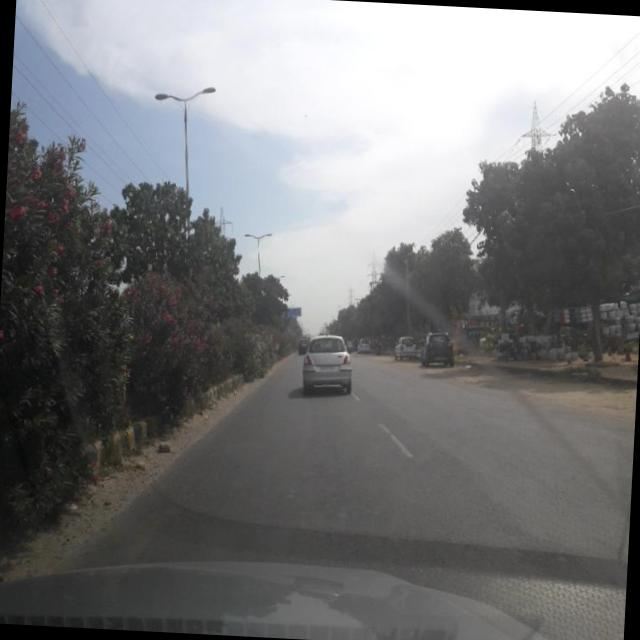crack: (132, 408, 624, 583)
